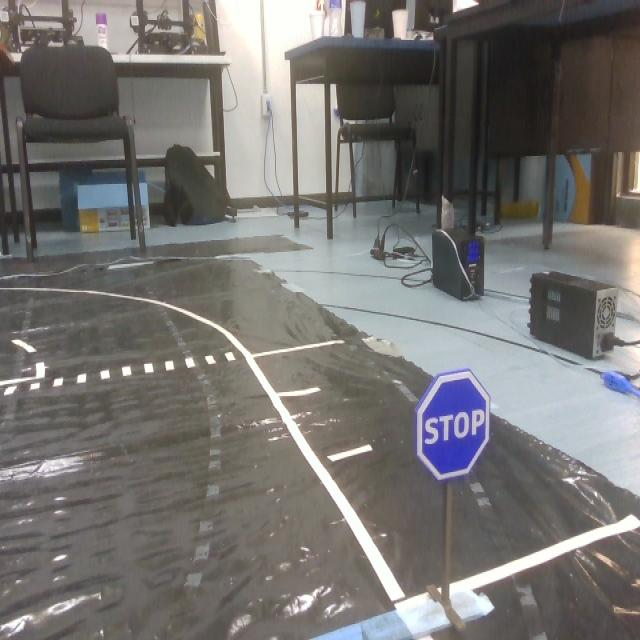no_entry: (417, 370, 495, 486)
